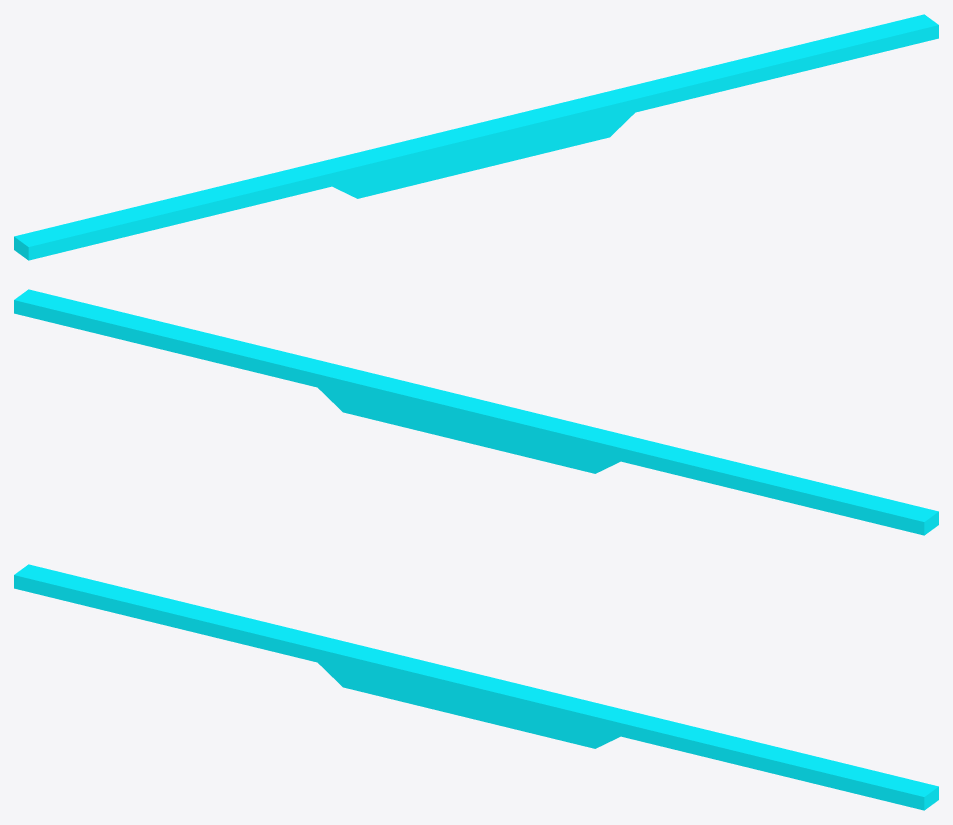
File: SM_Hud_Barrier_02.glb
3 renders of one model, top to bottom at view 1: azimuth 30°, elevation 25°; view 2: azimuth 150°, elevation 25°; view 3: azimuth 330°, elevation 25°, orthographic.
Visible parts, largest first — view 1: SM_Hud_Barrier_02; view 2: SM_Hud_Barrier_02; view 3: SM_Hud_Barrier_02.
Part boxes in pixels (x1=…): SM_Hud_Barrier_02: x1=14, y1=14, x2=938, y2=260; SM_Hud_Barrier_02: x1=14, y1=289, x2=938, y2=535; SM_Hud_Barrier_02: x1=14, y1=564, x2=938, y2=810.
Size of the model in its own units: 0.5687 by 0.0192 by 0.0158.
